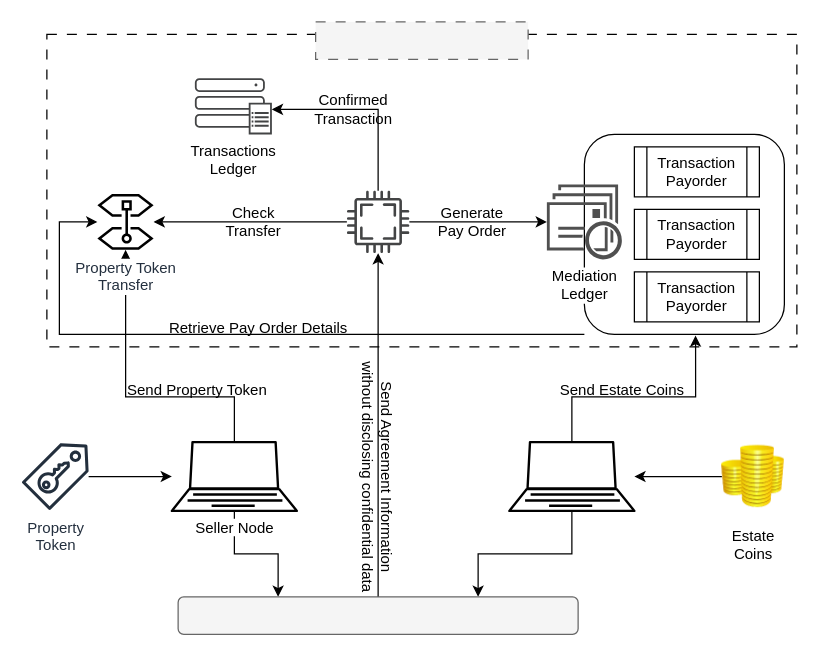
Some shapes in this 819 by 656 pixel diagram are drawn without their labels. The centre of each missing label's shape, as x and y in pixels:
"Agreement of Transaction on Private Fabric" belongs at [377,615].
"BlockEstate Network" belongs at [421,40].
"Buyer Node" belongs at [571,476].
"Chaincode" belongs at [377,221].
